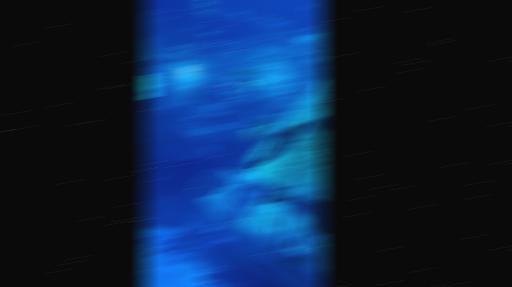Fish: (241, 122, 304, 172), (243, 114, 276, 140), (255, 14, 294, 30), (261, 185, 288, 204), (289, 256, 312, 266), (311, 117, 324, 132), (232, 9, 247, 21), (266, 216, 277, 229), (198, 0, 213, 9), (243, 80, 256, 90), (234, 68, 250, 76), (289, 235, 300, 246), (197, 9, 212, 15), (202, 31, 217, 37), (171, 44, 188, 49), (185, 25, 198, 30), (309, 24, 319, 30), (292, 32, 307, 36), (161, 17, 174, 21), (264, 20, 275, 22), (307, 5, 311, 9)
